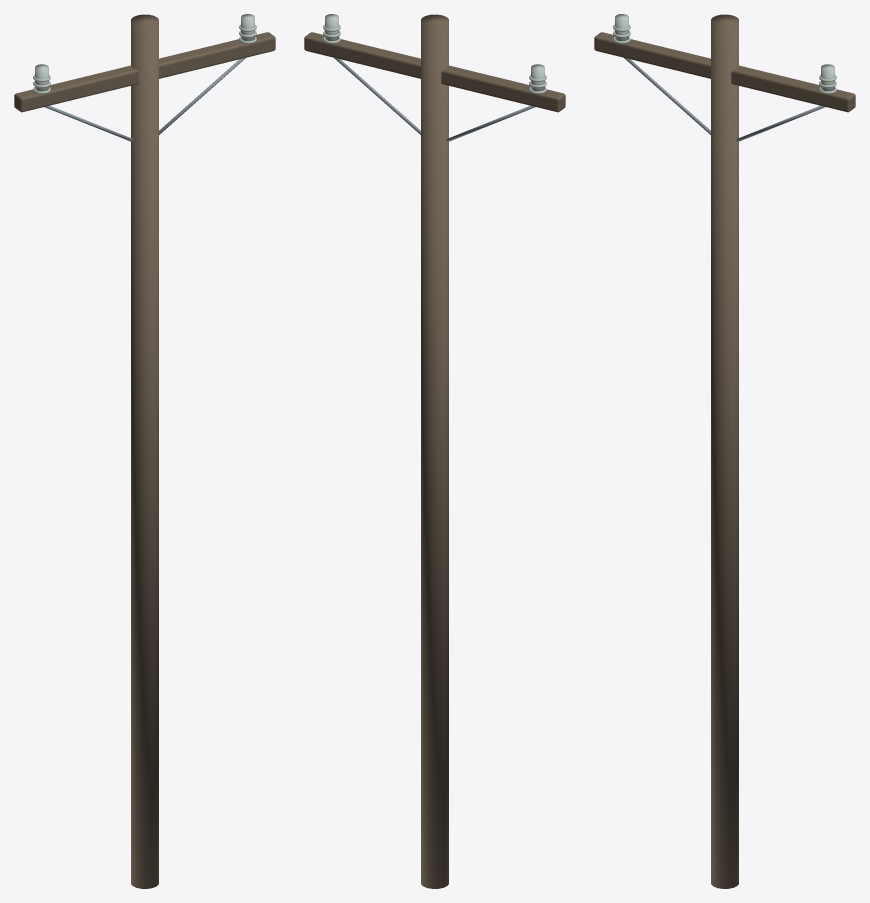
Rendered from power-pole.glb.
3 views of the same model, side by side, from view 1: azimuth 30°, elevation 25°; view 2: azimuth 150°, elevation 25°; view 3: azimuth 330°, elevation 25° (orthographic).
Parts seen in each view (by area): view 1: Utility weathered timber, Ceramic insulators, Utility hardware; view 2: Utility weathered timber, Ceramic insulators, Utility hardware; view 3: Utility weathered timber, Ceramic insulators, Utility hardware.
Boxes of the visible parts, bbox=[...] form: Utility weathered timber: bbox=[14, 14, 275, 888]; Ceramic insulators: bbox=[33, 14, 256, 93]; Utility hardware: bbox=[44, 58, 245, 142]; Utility weathered timber: bbox=[304, 14, 565, 888]; Ceramic insulators: bbox=[323, 14, 546, 93]; Utility hardware: bbox=[334, 58, 535, 142]; Utility weathered timber: bbox=[594, 14, 855, 888]; Ceramic insulators: bbox=[613, 14, 836, 93]; Utility hardware: bbox=[624, 58, 825, 142].
Size of the model in its own units: 3.1 by 10 by 0.3.
